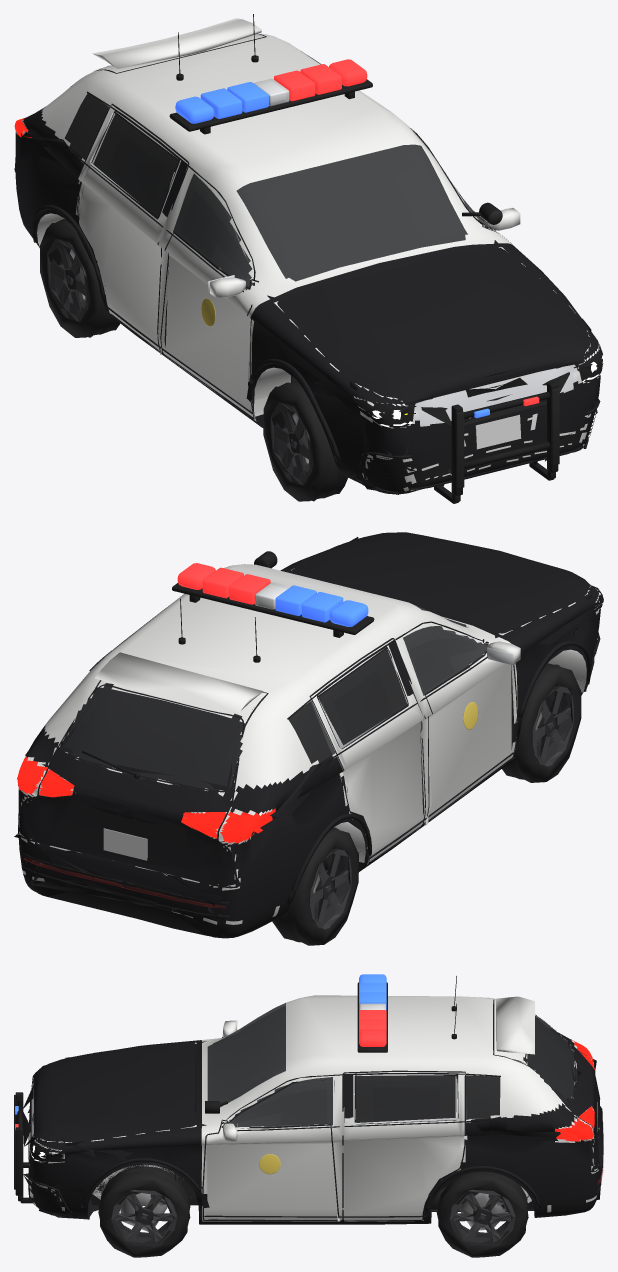
Rendered from patrolSuv-lod1.glb.
3 renders of one model, top to bottom at view 1: azimuth 30°, elevation 25°; view 2: azimuth 150°, elevation 25°; view 3: azimuth 270°, elevation 25°, orthographic. The views are drawn at different scales.
Visible parts, largest first — view 1: Body, HoodSkin_Trim, Body_Lining, Panel_RR, Panel_FR, Body_Trim, Window_RR, Wheel_FR_Tyre, Window_FR, Spoiler, Wheel_RR_Tyre, Wheel_RR_Lip (+17 smaller); view 2: Body, TrunkSkin, HoodSkin_Trim, TrunkSkin_Trim, Panel_FR, Panel_RR, Body_Trim, Spoiler, Window_RR, Wheel_RR_Tyre, Wheel_FR_Tyre, Window_FR (+18 smaller); view 3: Body, HoodSkin_Trim, Panel_FL, Panel_RL, Body_Lining, Window_RL, Wheel_FL_Tyre, Body_Trim, Wheel_RL_Tyre, Window_FL, TrunkSkin, Wheel_FL_Lip (+14 smaller).
Part boxes in pixels (x1,y1,x2,y2): Body: (14, 33, 600, 494); HoodSkin_Trim: (277, 247, 589, 405); Body_Lining: (66, 95, 467, 347); Panel_RR: (79, 107, 187, 349); Panel_FR: (162, 235, 251, 415); Body_Trim: (17, 118, 603, 491); Window_RR: (93, 114, 178, 217); Wheel_FR_Tyre: (263, 381, 347, 501); Window_FR: (174, 178, 253, 289); Spoiler: (92, 18, 261, 68); Wheel_RR_Tyre: (40, 219, 120, 337); Wheel_RR_Lip: (47, 239, 89, 322); Body: (17, 550, 601, 938); TrunkSkin: (19, 681, 265, 886); HoodSkin_Trim: (288, 532, 589, 633); TrunkSkin_Trim: (17, 680, 268, 888); Panel_FR: (427, 653, 511, 819); Panel_RR: (313, 639, 423, 859); Body_Trim: (17, 537, 603, 920); Spoiler: (95, 652, 263, 713); Window_RR: (319, 649, 407, 745); Wheel_RR_Tyre: (272, 827, 358, 945); Wheel_FR_Tyre: (502, 663, 581, 782); Window_FR: (405, 626, 488, 692); Body: (28, 995, 601, 1224); HoodSkin_Trim: (33, 1043, 196, 1142); Panel_FL: (207, 1125, 337, 1219); Panel_RL: (344, 1072, 460, 1219); Body_Lining: (208, 1006, 545, 1128); Window_RL: (356, 1076, 455, 1124); Wheel_FL_Tyre: (98, 1166, 190, 1257); Body_Trim: (22, 1057, 602, 1220); Wheel_RL_Tyre: (436, 1171, 528, 1257); Window_FL: (223, 1079, 332, 1128); TrunkSkin: (495, 1000, 598, 1169); Wheel_FL_Lip: (111, 1189, 177, 1245).
Size of the model in its own units: 2.11 by 1.93 by 4.67.
